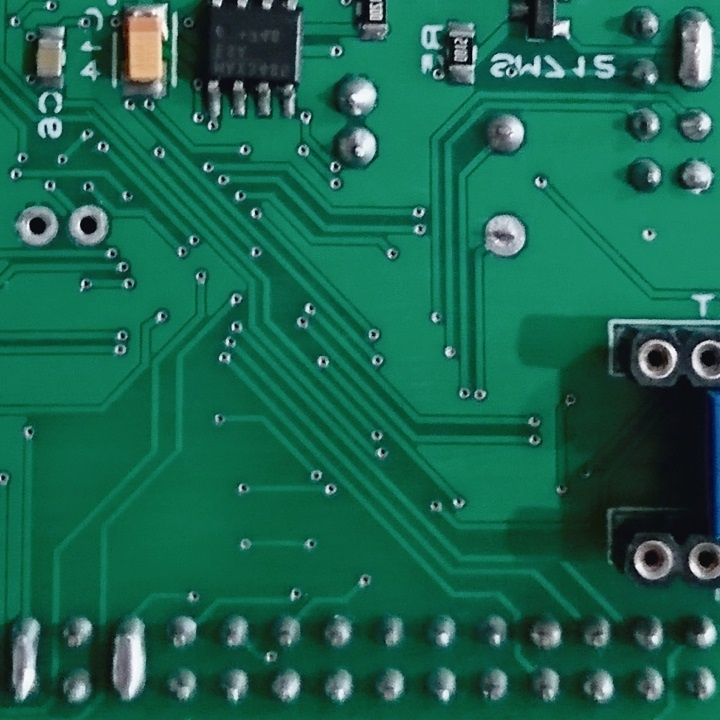F: (14, 202, 63, 252), (479, 211, 528, 258), (67, 203, 115, 249)
P: (108, 609, 153, 708), (7, 610, 47, 707), (672, 5, 716, 92)
